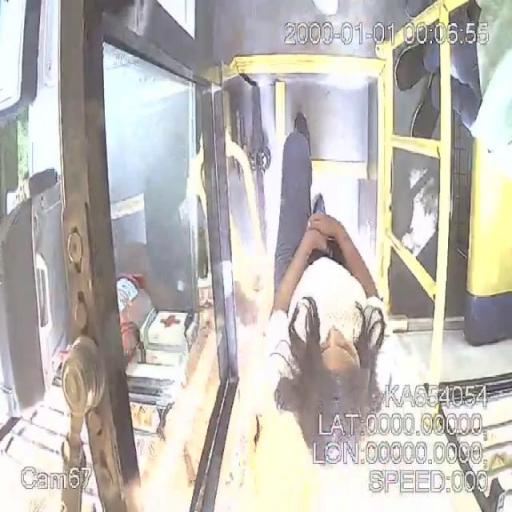persona: (266, 129, 388, 456)
